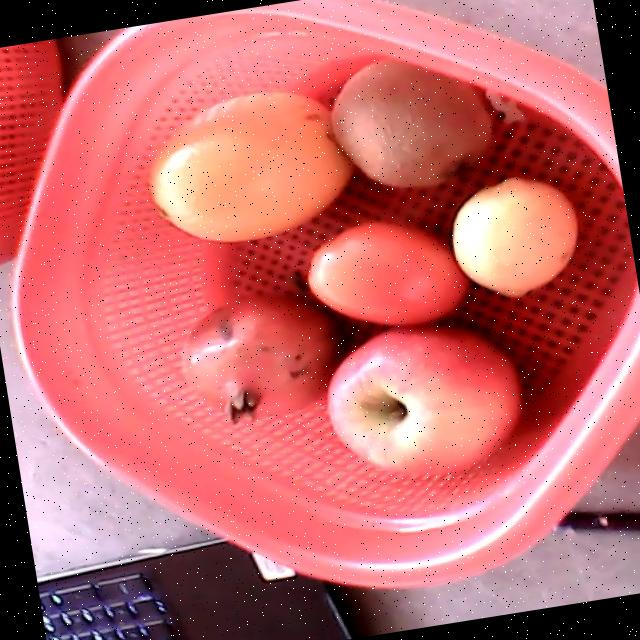apple: (326, 324, 525, 474)
kiwi: (332, 60, 494, 189)
lemon: (452, 177, 577, 295)
orange: (145, 90, 351, 242)
pomegranate: (185, 293, 341, 428)
tomato: (309, 223, 466, 324)
